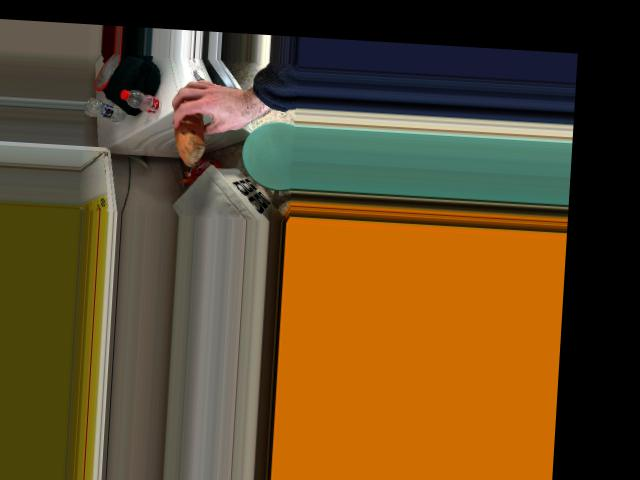sweet_potato: (176, 102, 214, 151)
